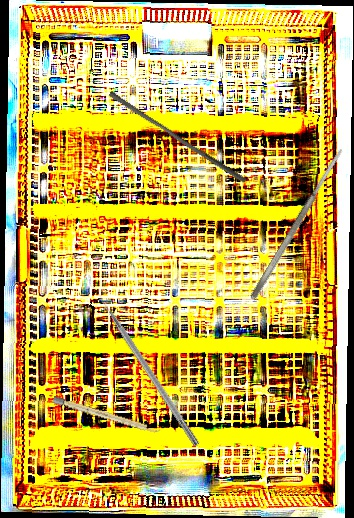Hook Surgical: (89, 282, 202, 449)
Pusher: (105, 90, 250, 184)
Scalpel Handle: (52, 395, 161, 436)
Spatula Surgical: (248, 145, 347, 302)
